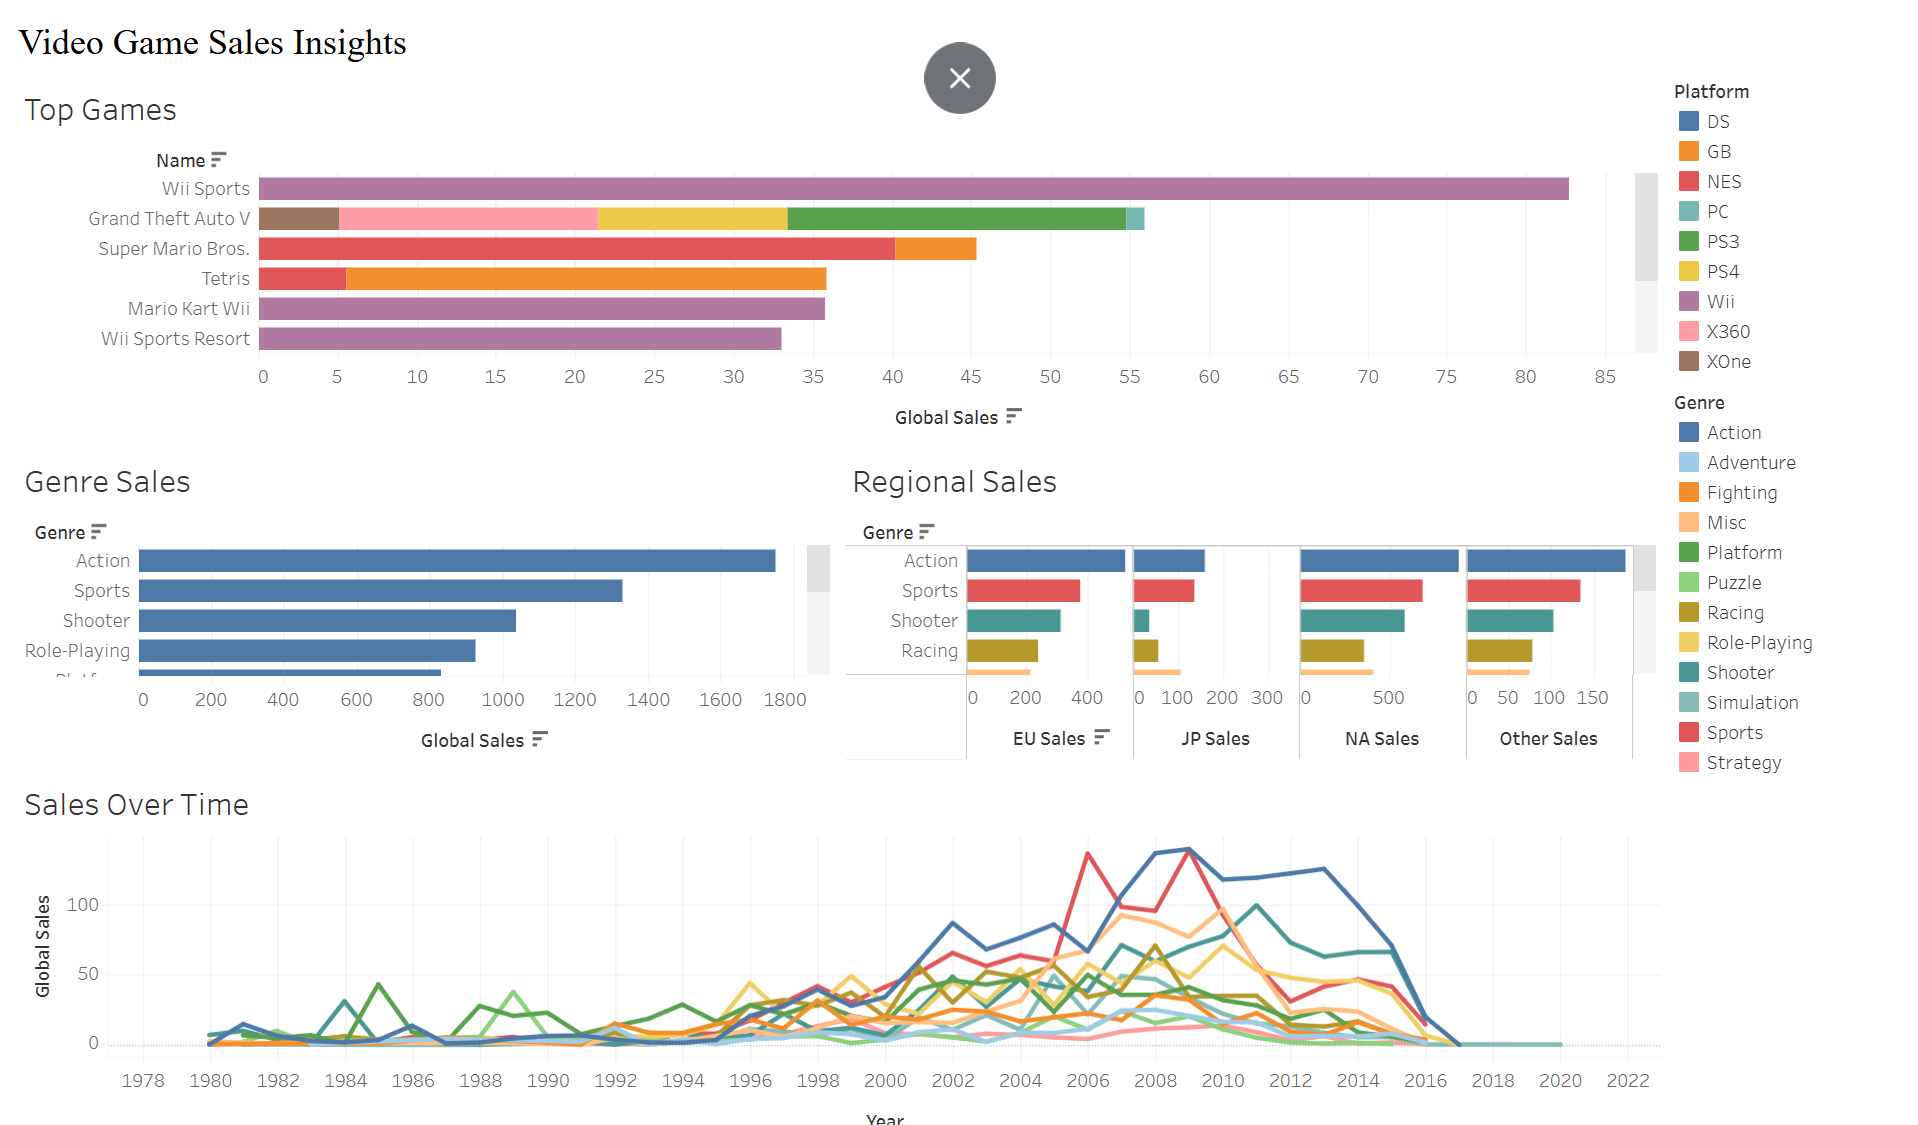

The page's visual inventory and layout, read from the dashboard file:
{"tool":"tableau","page":{"name":"Dashboard 2","canvas":[1000,1000],"units":"permille","ordinal":1},"visuals":[{"type":"title","box":[5,9.2,990,62.4]},{"type":"worksheet","title":"Top Games","mark":"Bar","rows":["Name"],"cols":["Global_Sales"],"box":[5,71.6,890.3,317.9]},{"type":"legend","title":"Top Games","param":"[federated.0ulun9a0i2okao1eq5j7s1pt7ztw].[none:Platform:nk]","box":[895.3,71.6,99.8,299.1]},{"type":"legend","title":"Sales Over Time","param":"[federated.0ulun9a0i2okao1eq5j7s1pt7ztw].[none:Genre:nk]","box":[895.3,370.7,99.8,385.7]},{"type":"worksheet","title":"Genre Sales","mark":"Automatic","rows":["Genre"],"cols":["Global_Sales"],"box":[5,389.5,445.1,275.8]},{"type":"worksheet","title":"Regional Sales","mark":"Automatic","rows":["Genre"],"cols":["EU_Sales","JP_Sales","NA_Sales","Other_Sales"],"box":[450.1,389.5,445.1,275.8]},{"type":"worksheet","title":"Sales Over Time","mark":"Automatic","rows":["Global_Sales"],"cols":["Year"],"box":[5,665.3,890.3,325.5]}]}

Visuals, with their boxes on the dashboard's canvas, which has no fixed pixel size, in thousandths of its width and height (x1, y1, x2, y2). These are canvas units, not pixel positions in the 1918x1125 screenshot, which may show the page scaled, cropped or inside an application window:
title: <region>5, 9, 995, 72</region>
"Top Games" worksheet (Bar marks): <region>5, 72, 895, 390</region>
"Top Games" legend: <region>895, 72, 995, 371</region>
"Sales Over Time" legend: <region>895, 371, 995, 756</region>
"Genre Sales" worksheet: <region>5, 390, 450, 665</region>
"Regional Sales" worksheet: <region>450, 390, 895, 665</region>
"Sales Over Time" worksheet: <region>5, 665, 895, 991</region>
